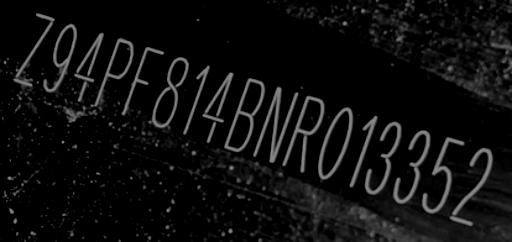letter: (449, 143, 499, 222), (360, 121, 410, 197), (312, 105, 362, 179), (219, 77, 269, 151), (283, 93, 331, 169), (92, 36, 140, 111), (116, 47, 168, 116), (13, 7, 55, 92), (148, 52, 196, 126), (252, 87, 302, 157), (390, 130, 438, 201), (424, 134, 466, 211), (178, 62, 220, 138), (72, 24, 112, 103), (42, 16, 80, 99), (341, 114, 381, 187), (203, 69, 243, 139)
